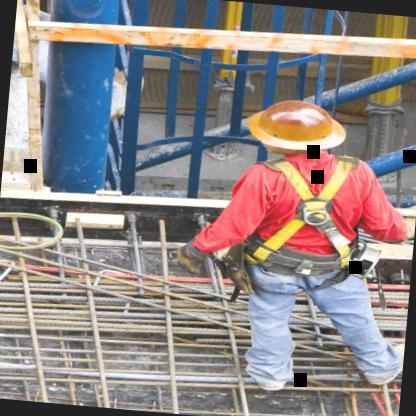helmet: (236, 90, 366, 188)
